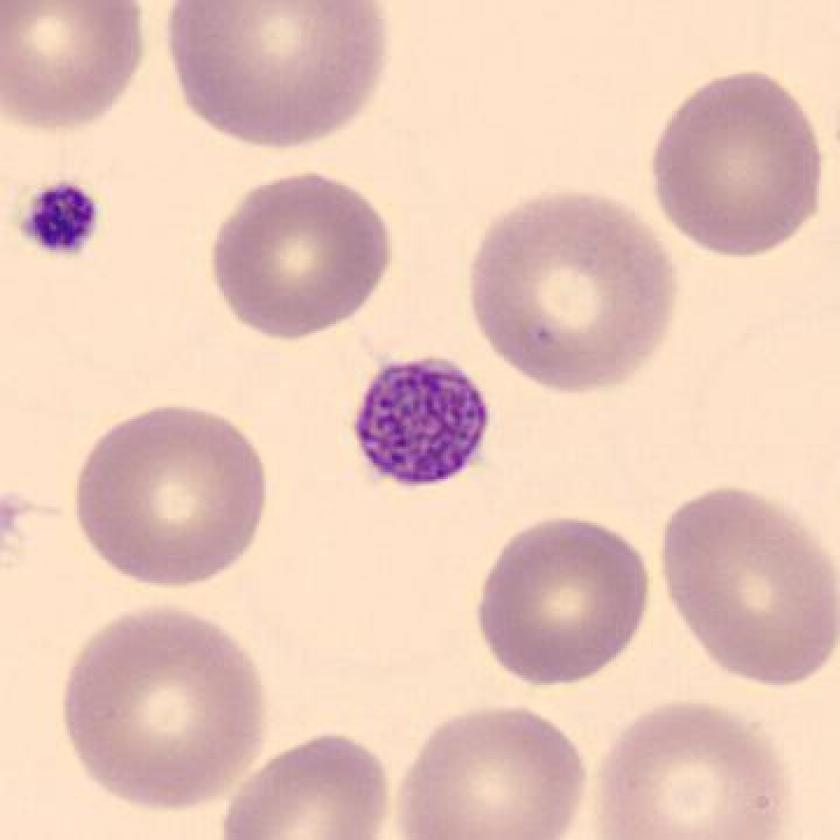platelets: (335, 348, 505, 501), (13, 173, 115, 270)
